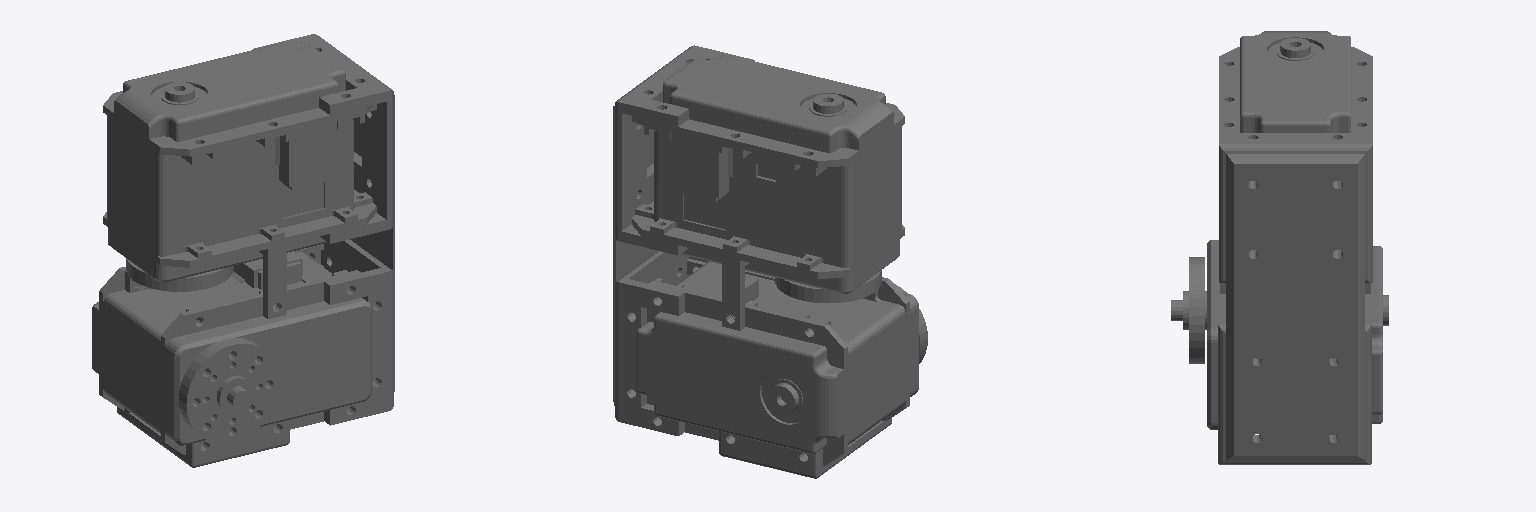
File: HIP_Servo.obj
3 views of the same model, side by side, from view 1: azimuth 30°, elevation 25°; view 2: azimuth 150°, elevation 25°; view 3: azimuth 270°, elevation 25° (orthographic).
Size of the model in its own units: 7.01 by 10.26 by 5.68.